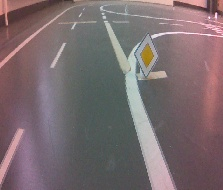priority road sign: (132, 30, 160, 80)
